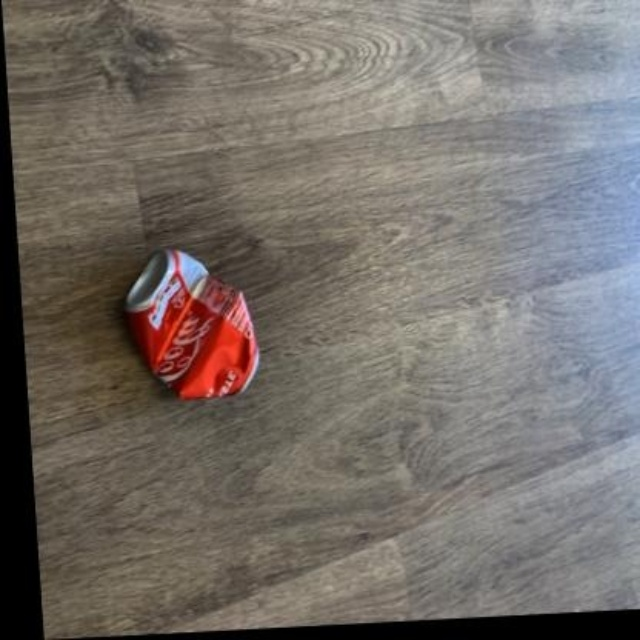trash: (125, 248, 257, 397)
